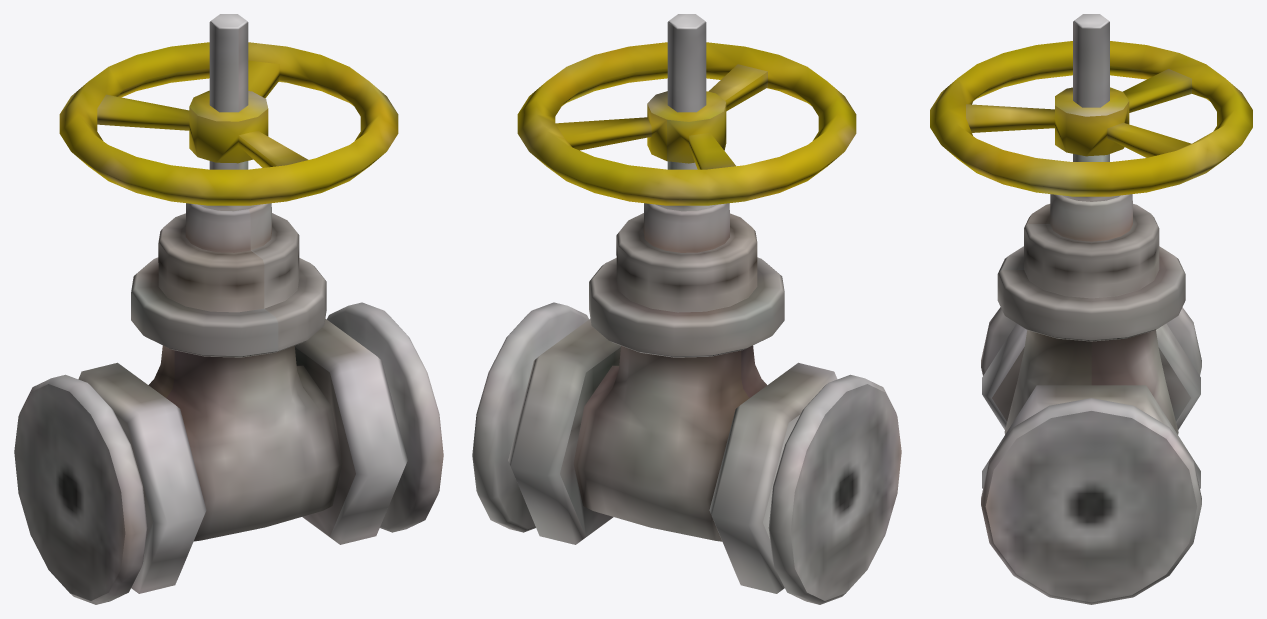
File: pipe_d_valve_a.glb
3 views of the same model, side by side, from view 1: azimuth 30°, elevation 25°; view 2: azimuth 150°, elevation 25°; view 3: azimuth 270°, elevation 25° (orthographic). The views are drawn at different scales.
Visible parts, largest first — view 1: pipe_d_valve_a; view 2: pipe_d_valve_a; view 3: pipe_d_valve_a.
Boxes of the visible parts, x1,y1,x2,y2 form: pipe_d_valve_a: (14,14,443,604); pipe_d_valve_a: (472,14,901,604); pipe_d_valve_a: (930,14,1252,604).
Bounding box in the file's own units: 0.25 × 0.404 × 0.2305.
1 material, 1 textured.
